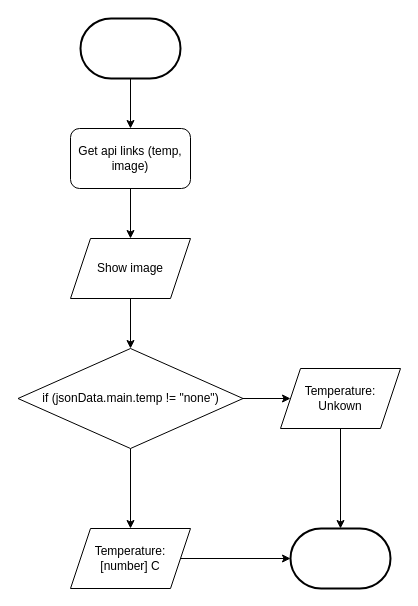
The diagram is 418 pixels wide and 606 high, and some of its shapes have lost their labels. Each missing label, with the centre of its shape:
Start: point (130, 48)
Stop: point (340, 558)
